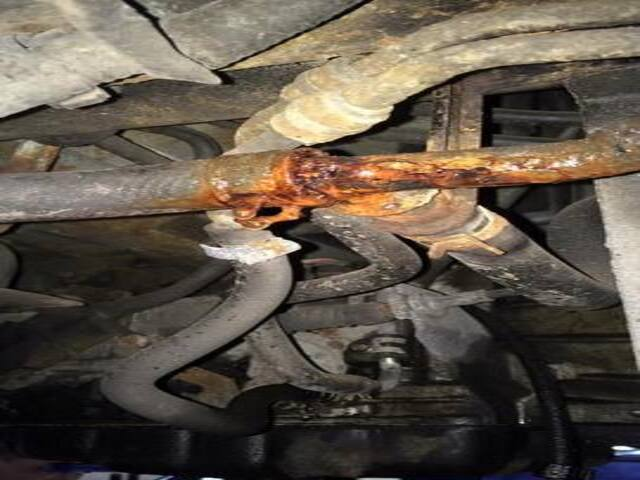Low: (12, 140, 80, 176)
Severe: (182, 146, 630, 231)
